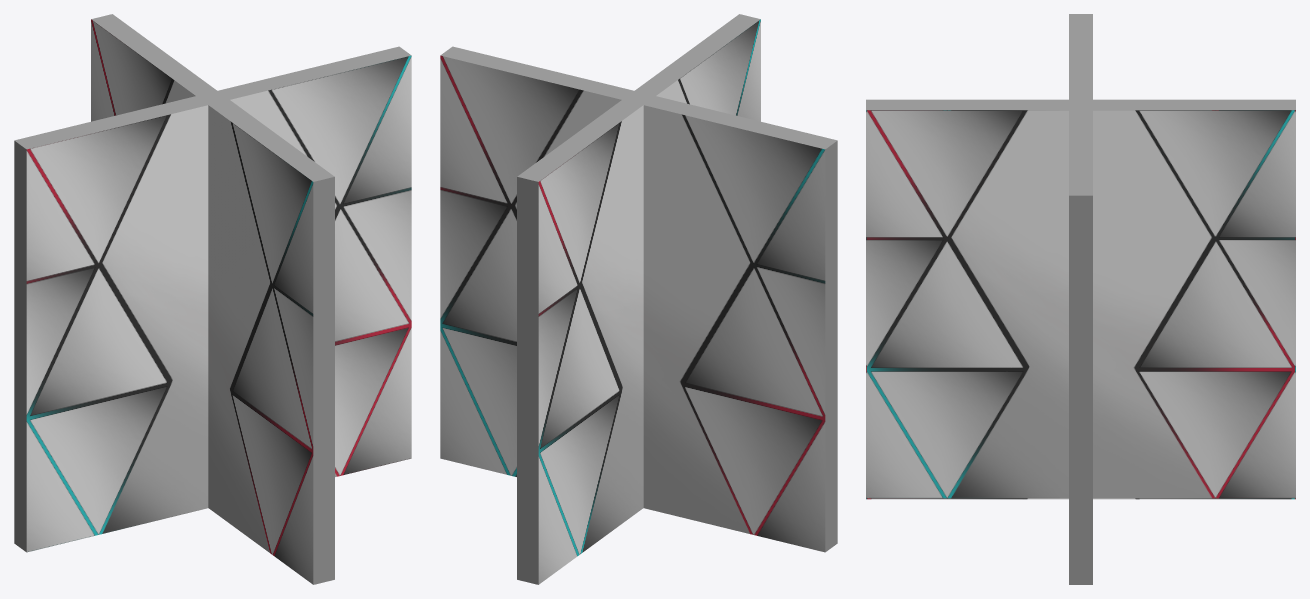
Rendered from Cross_wall.fbx.
The picture shows the model from 3 angles, left to right: view 1: azimuth 30°, elevation 25°; view 2: azimuth 150°, elevation 25°; view 3: azimuth 270°, elevation 25°; orthographic projection. The views are drawn at different scales.
Visible parts, largest first — view 1: Crosswall; view 2: Crosswall; view 3: Crosswall.
Part boxes in pixels (x1,y1,x2,y2): Crosswall: (14,14,411,584); Crosswall: (440,14,837,584); Crosswall: (866,14,1295,584).
Bounding box in the file's own units: 2 × 2 × 2.
